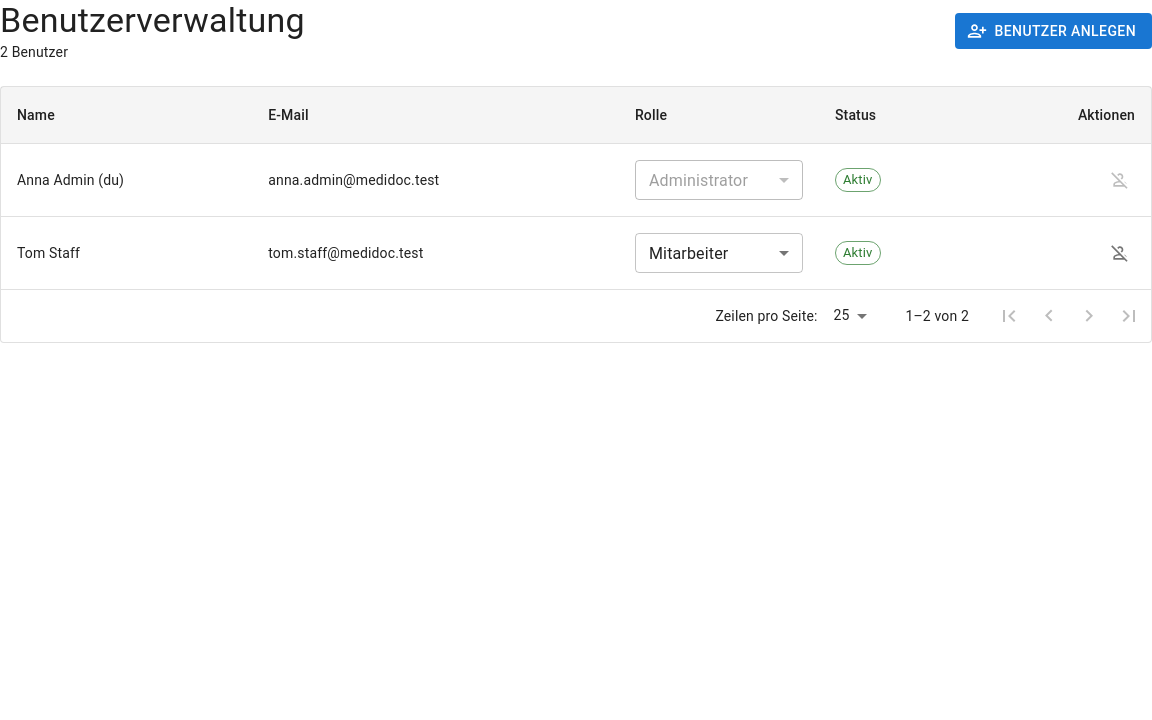
Test case: UsersPage › schickt nichts, wenn die Rückfrage abgebrochen wird
The width and height of the screenshot is (1152, 720).
Click the button named "Tom Staff deaktivieren": {"x": 1120, "y": 253} [1105,238,1135,268]
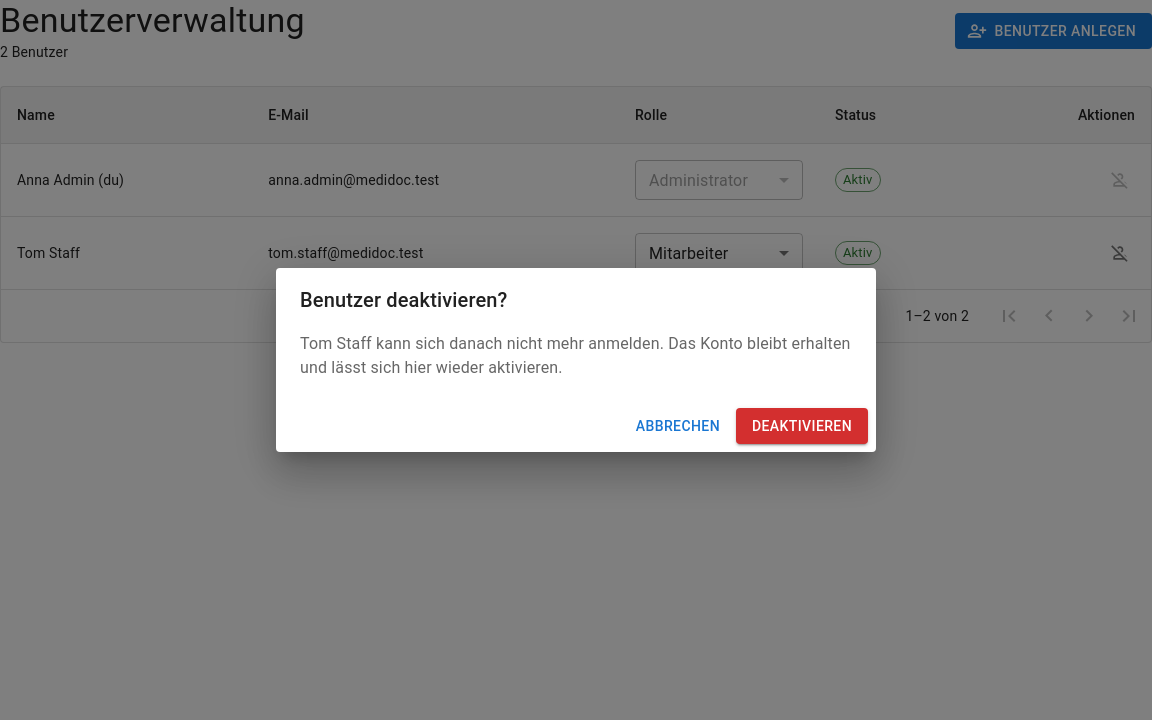
Click the button "Abbrechen": {"x": 678, "y": 426} [628,408,728,444]
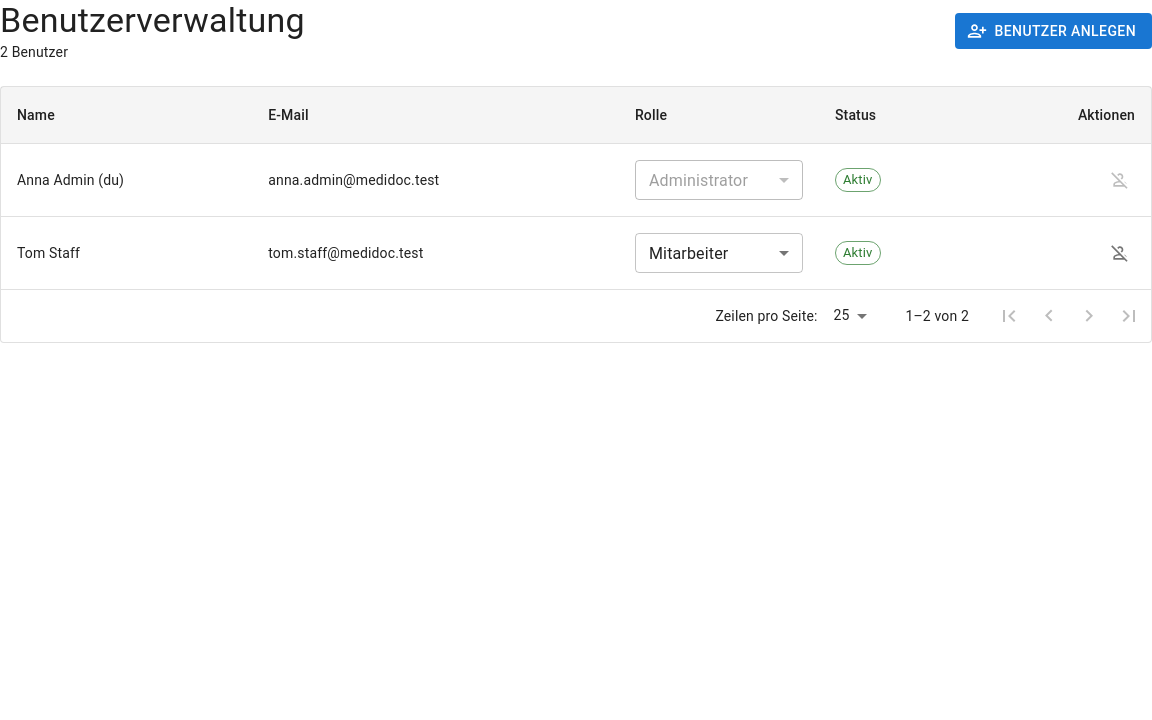
Check: the dialog is gone
